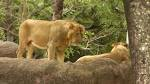lion: (15, 13, 88, 67), (77, 43, 133, 68)
